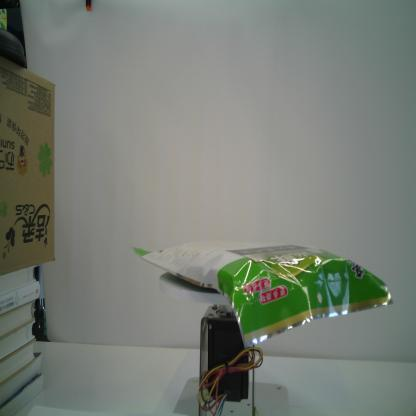Dried Food: (131, 237, 393, 352)
